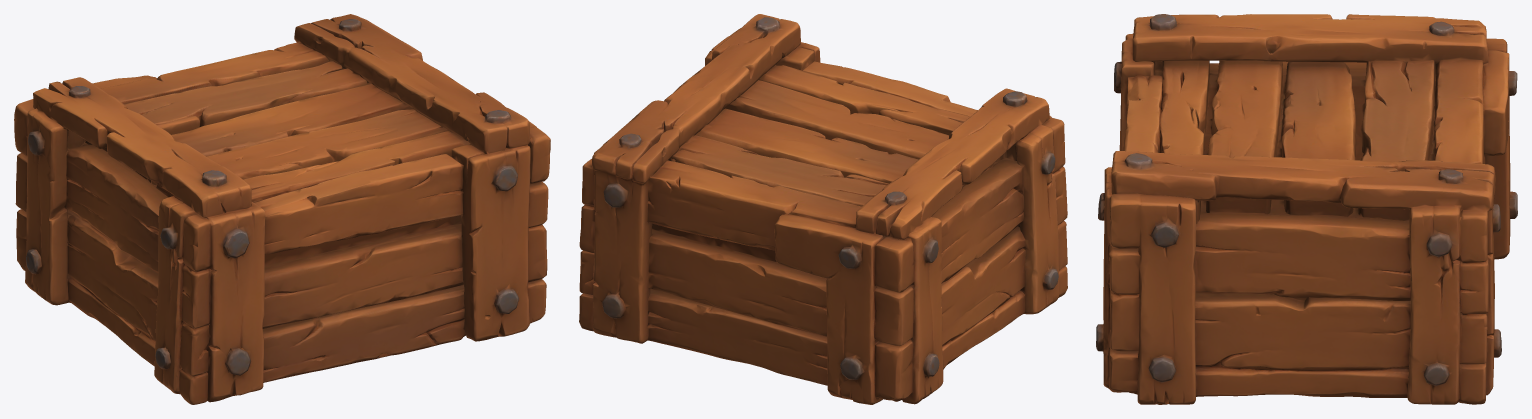
The model's file is WoodCrate.fbx.
3 renders of one model, left to right at view 1: azimuth 30°, elevation 25°; view 2: azimuth 150°, elevation 25°; view 3: azimuth 270°, elevation 25°, orthographic. The views are drawn at different scales.
Visible parts, largest first — view 1: tripo_node_d5bcf56c; view 2: tripo_node_d5bcf56c; view 3: tripo_node_d5bcf56c.
Boxes of the visible parts, left/top/right/bottom form: tripo_node_d5bcf56c: left=14, top=14, right=550, bottom=404; tripo_node_d5bcf56c: left=579, top=14, right=1067, bottom=404; tripo_node_d5bcf56c: left=1096, top=14, right=1517, bottom=404.
Size of the model in its own units: 1 by 0.5532 by 0.9226.
